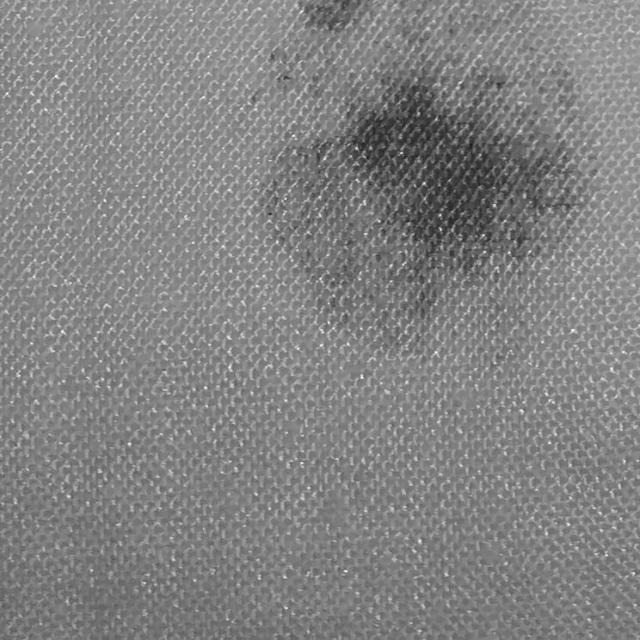Stain: (247, 0, 580, 338)
